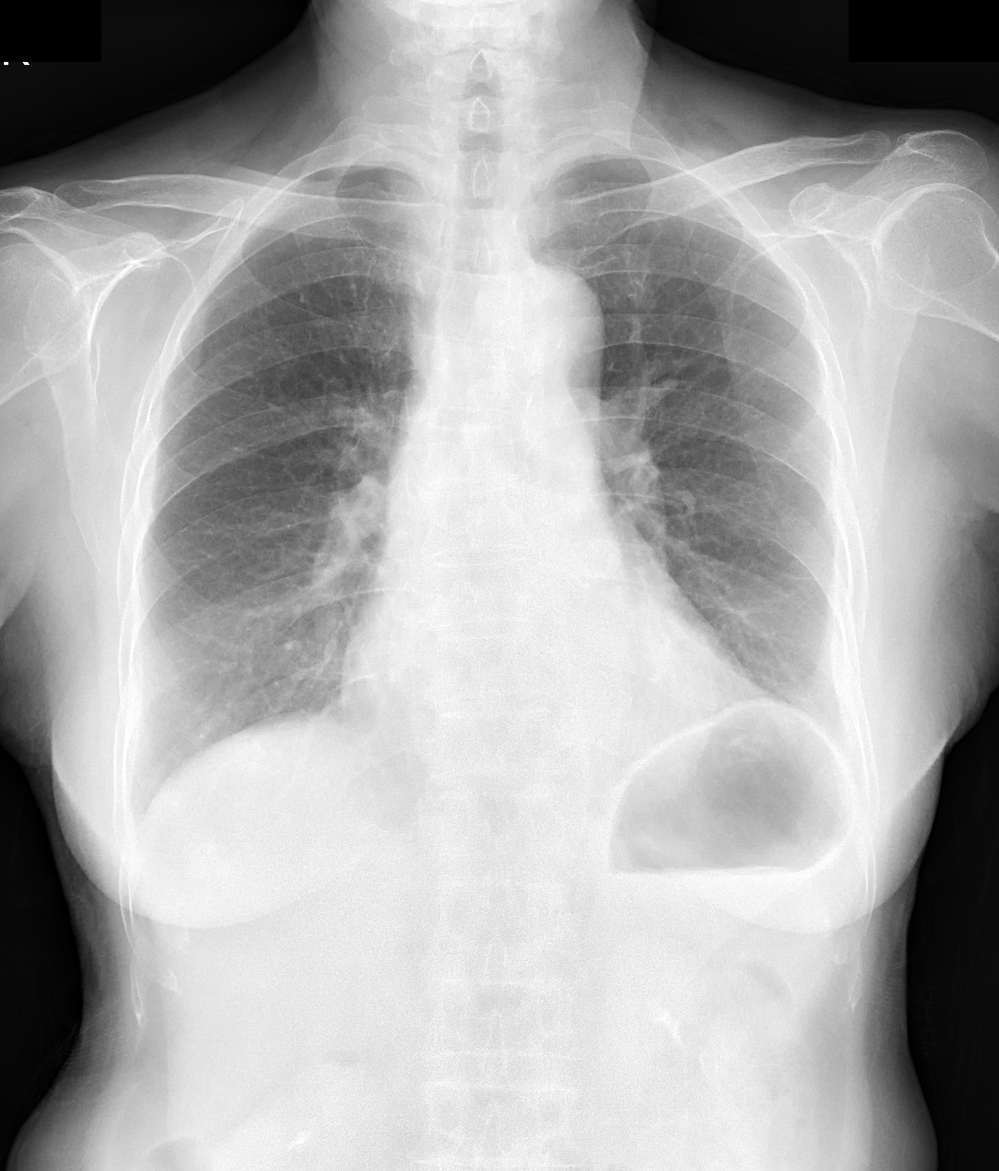Aortic enlargement: (472, 260, 606, 385)
Cardiomegaly: (339, 638, 717, 760)
Pleural thickening: (323, 164, 395, 182)
